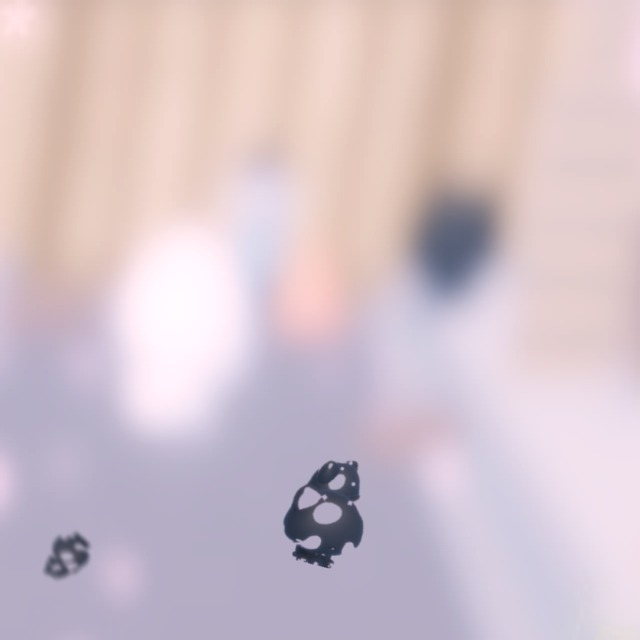urso_preto: (271, 439, 390, 577), (30, 524, 99, 594)
